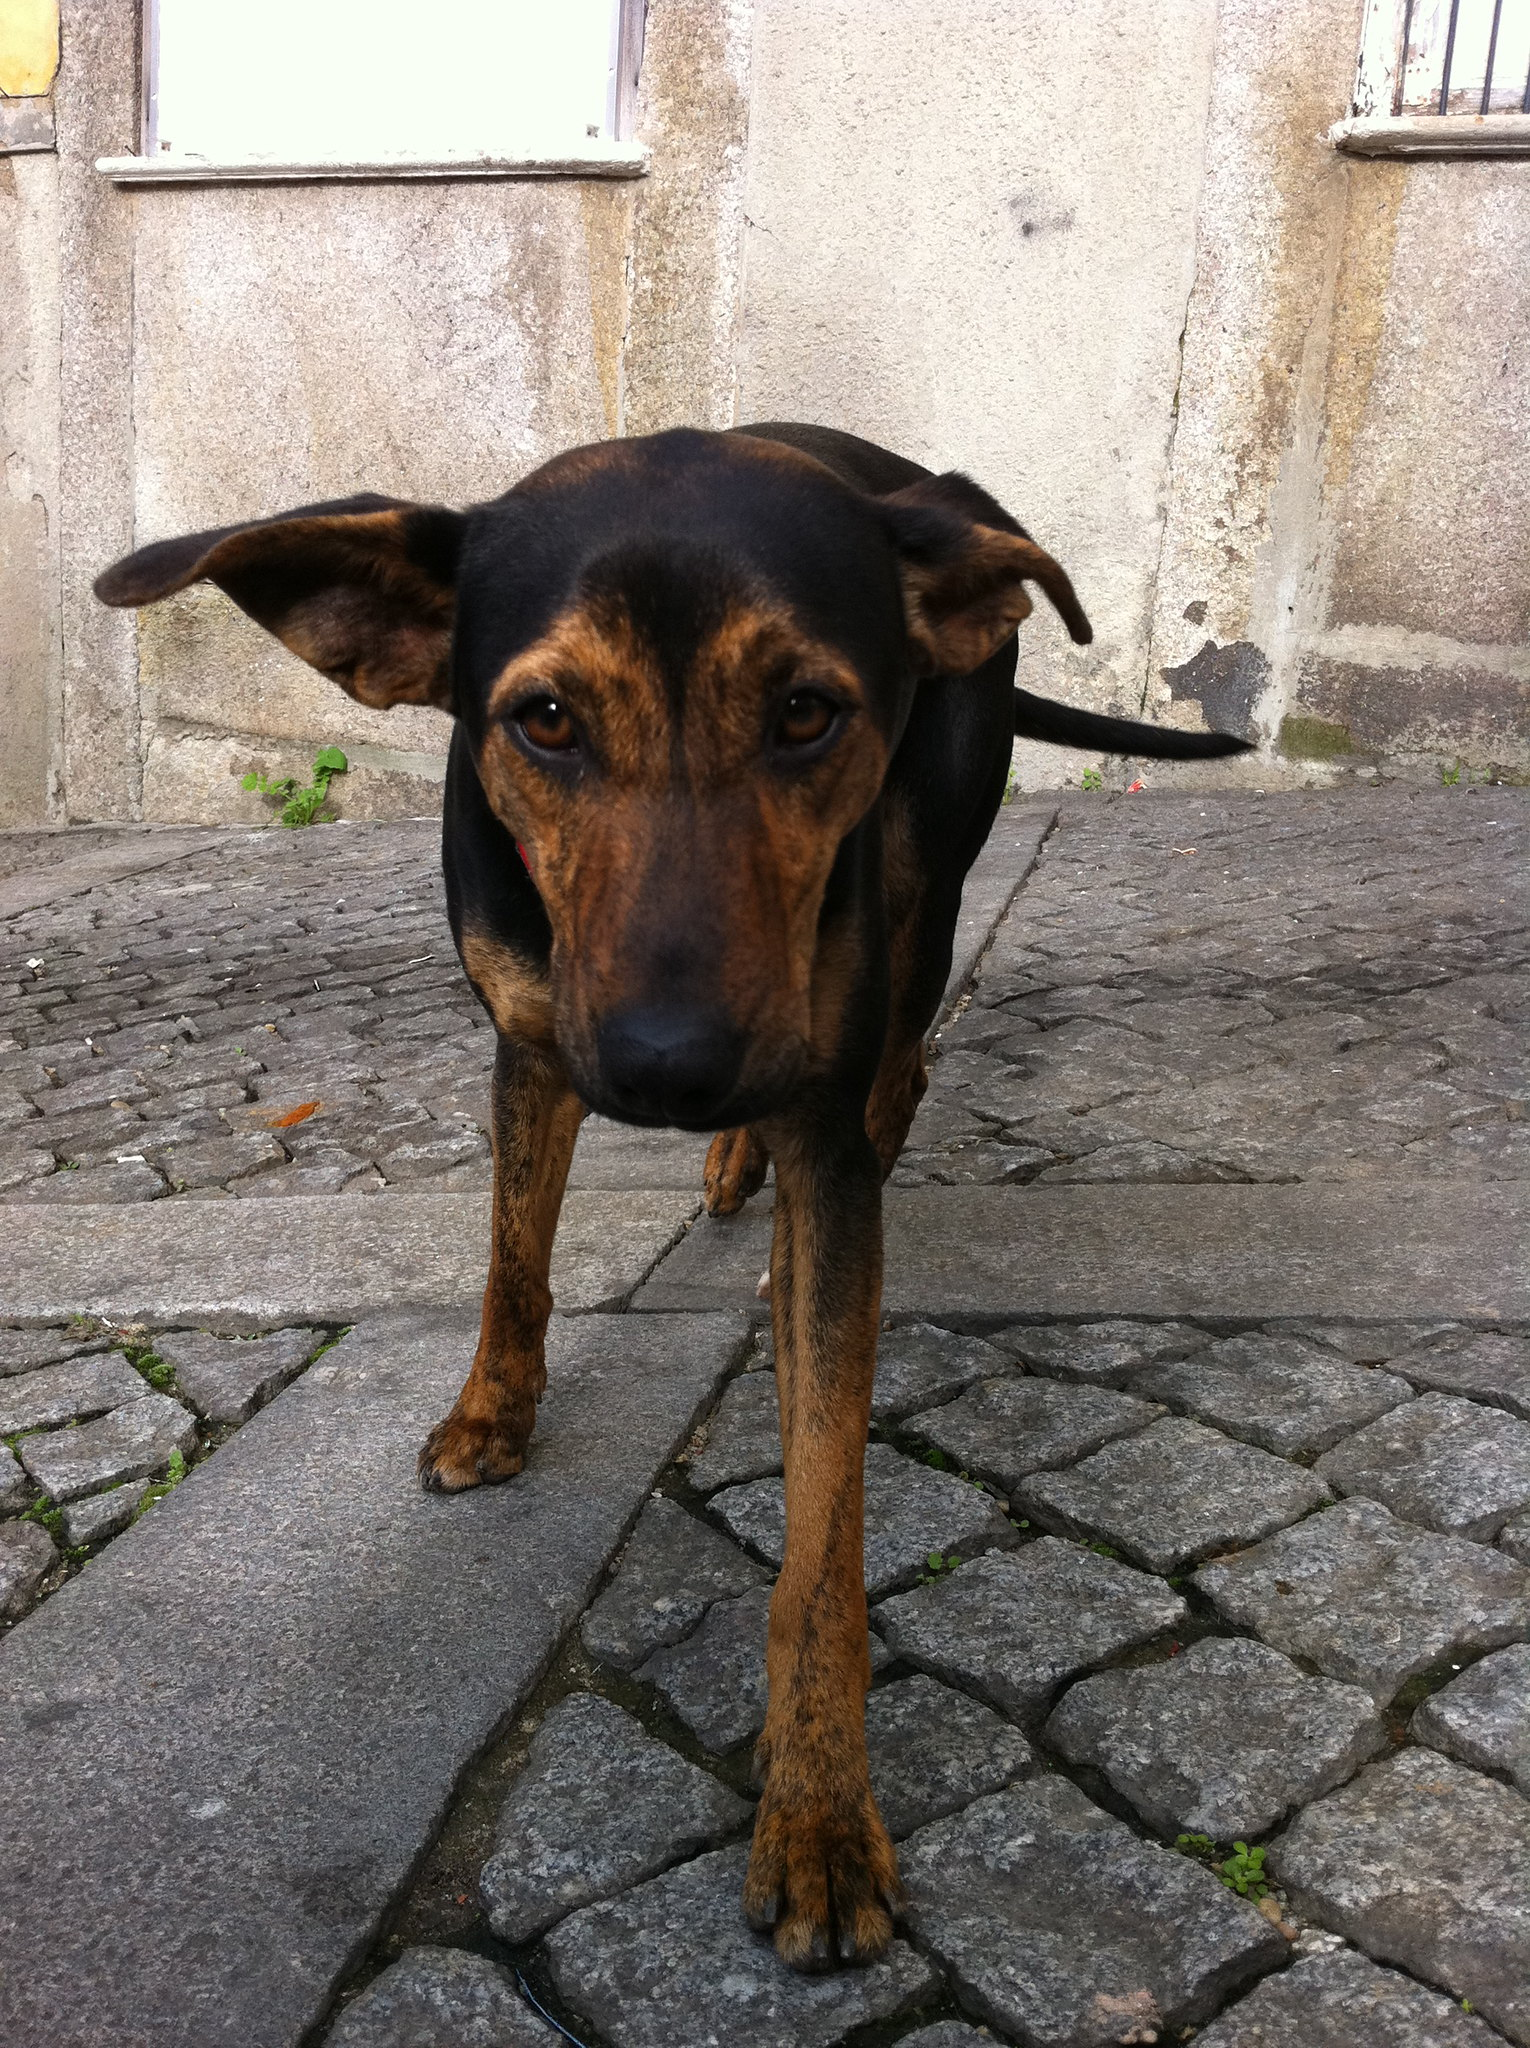dog: (64, 381, 1075, 2001)
